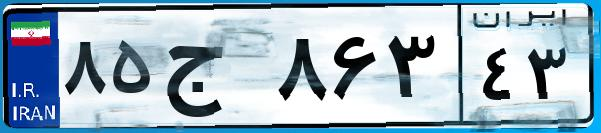3: (385, 28, 445, 110), (525, 38, 570, 115)
4: (475, 38, 525, 113)
5: (110, 28, 158, 98)
6: (330, 28, 385, 110)
8: (270, 28, 330, 110), (57, 26, 110, 100)
ج: (158, 20, 270, 120)
